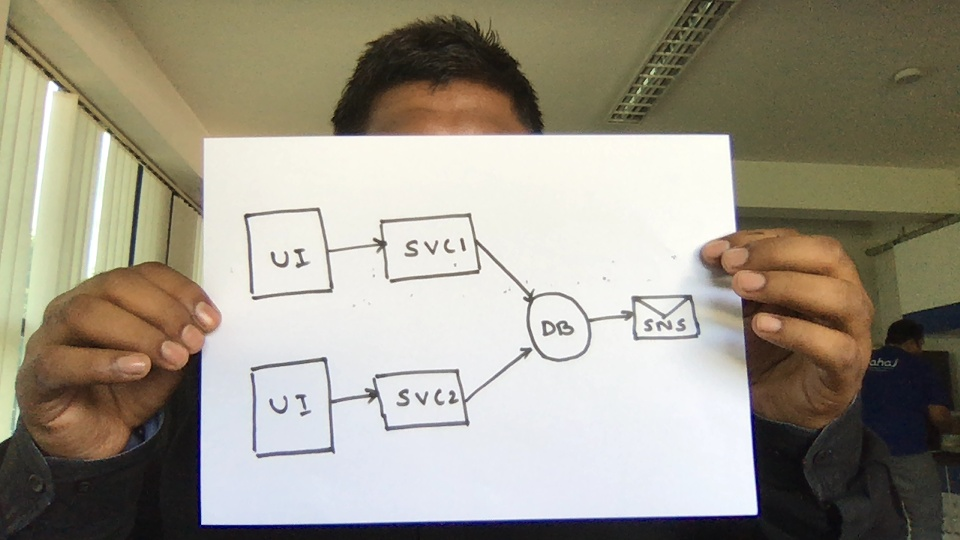db: (518, 287, 599, 376)
ec2: (375, 208, 489, 285), (361, 357, 475, 434)
sns: (627, 287, 706, 352)
ui: (239, 202, 341, 304), (239, 356, 341, 458)
